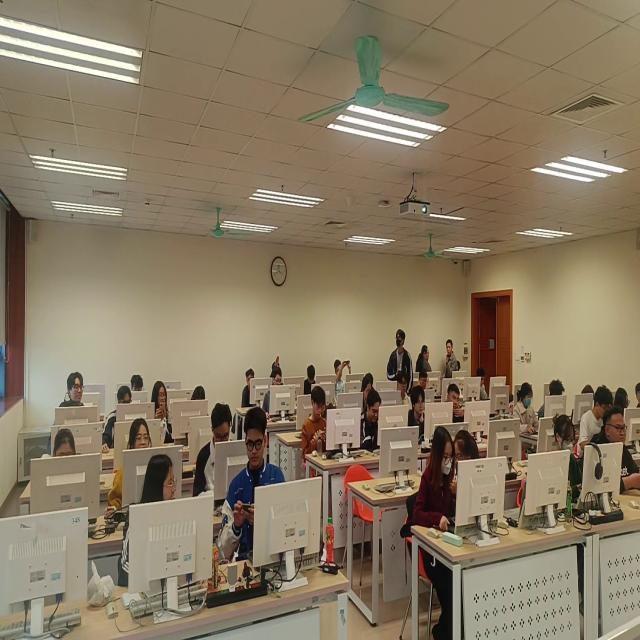raise_head: (589, 405, 640, 497), (55, 365, 91, 429), (635, 379, 640, 410)
stand: (385, 325, 413, 389), (445, 338, 462, 381), (416, 342, 433, 382)
using_computer: (190, 401, 237, 502), (106, 420, 150, 522), (552, 412, 586, 509), (578, 385, 612, 450), (44, 420, 83, 473), (104, 387, 132, 456), (513, 382, 540, 440), (540, 376, 568, 425), (360, 390, 380, 455), (408, 386, 427, 446), (261, 370, 284, 419), (446, 381, 470, 425), (241, 365, 255, 407), (615, 385, 632, 414), (477, 366, 490, 403), (398, 369, 410, 409), (302, 361, 316, 395), (131, 372, 149, 395), (190, 384, 207, 407), (360, 375, 373, 404)
using_phone: (218, 404, 286, 568), (299, 384, 329, 463), (154, 380, 177, 439), (331, 351, 353, 401)
